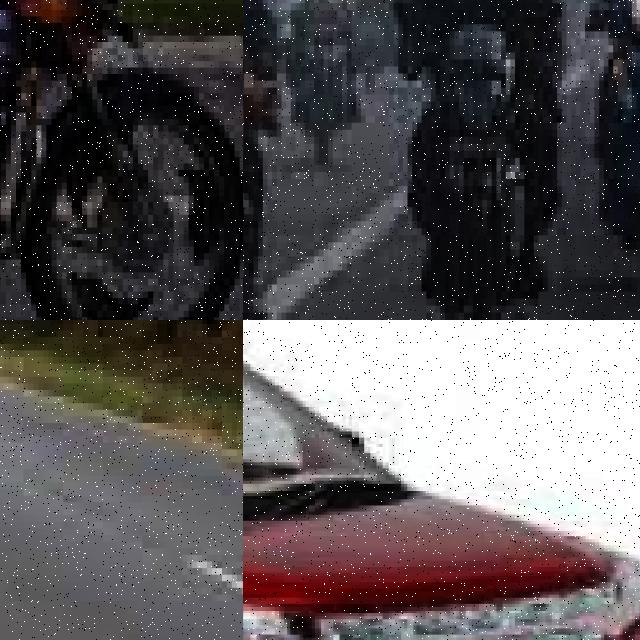bike: (0, 0, 243, 320), (412, 24, 552, 320), (585, 0, 640, 291), (286, 0, 370, 158)
car: (243, 320, 640, 640)
